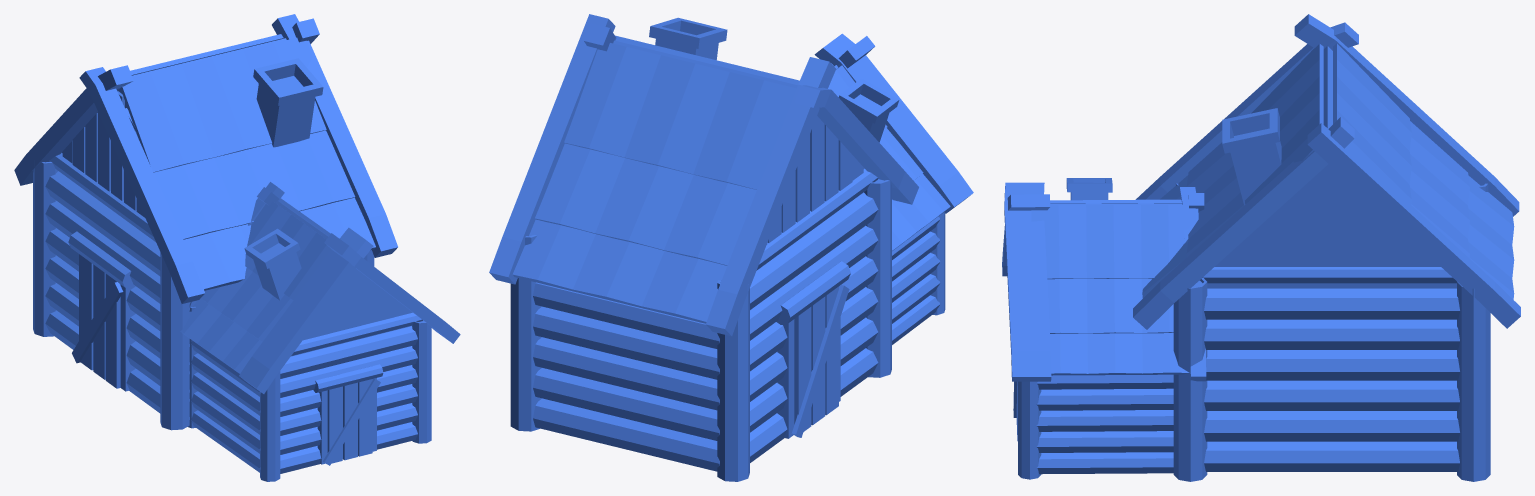
Rendered from House_Variant4.fbx.
The picture shows the model from 3 angles, left to right: view 1: azimuth 30°, elevation 25°; view 2: azimuth 150°, elevation 25°; view 3: azimuth 270°, elevation 25°; orthographic projection. The views are drawn at different scales.
Visible parts, largest first — view 1: House_Variant4; view 2: House_Variant4; view 3: House_Variant4.
Part boxes in pixels (left/top/right/bottom): House_Variant4: left=14, top=14, right=460, bottom=481; House_Variant4: left=489, top=14, right=973, bottom=481; House_Variant4: left=1002, top=14, right=1520, bottom=481.
Bounding box in the file's own units: 271 × 372 × 485.
